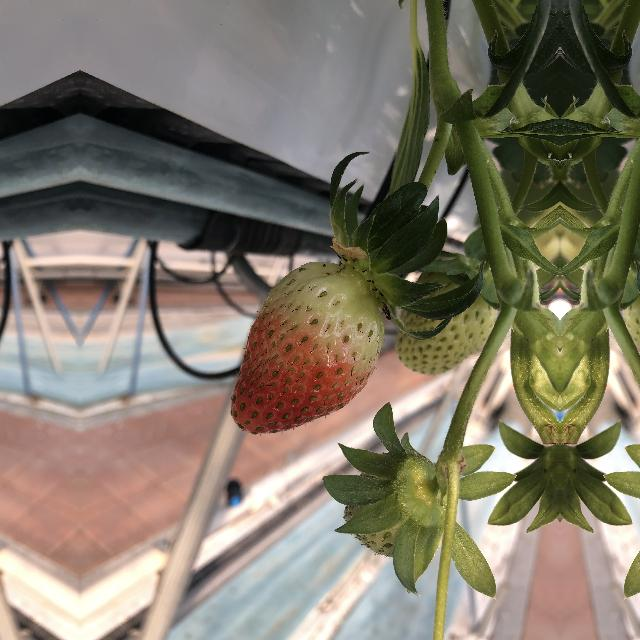Health_25: (392, 269, 496, 376)
Health_75: (223, 254, 391, 446)
